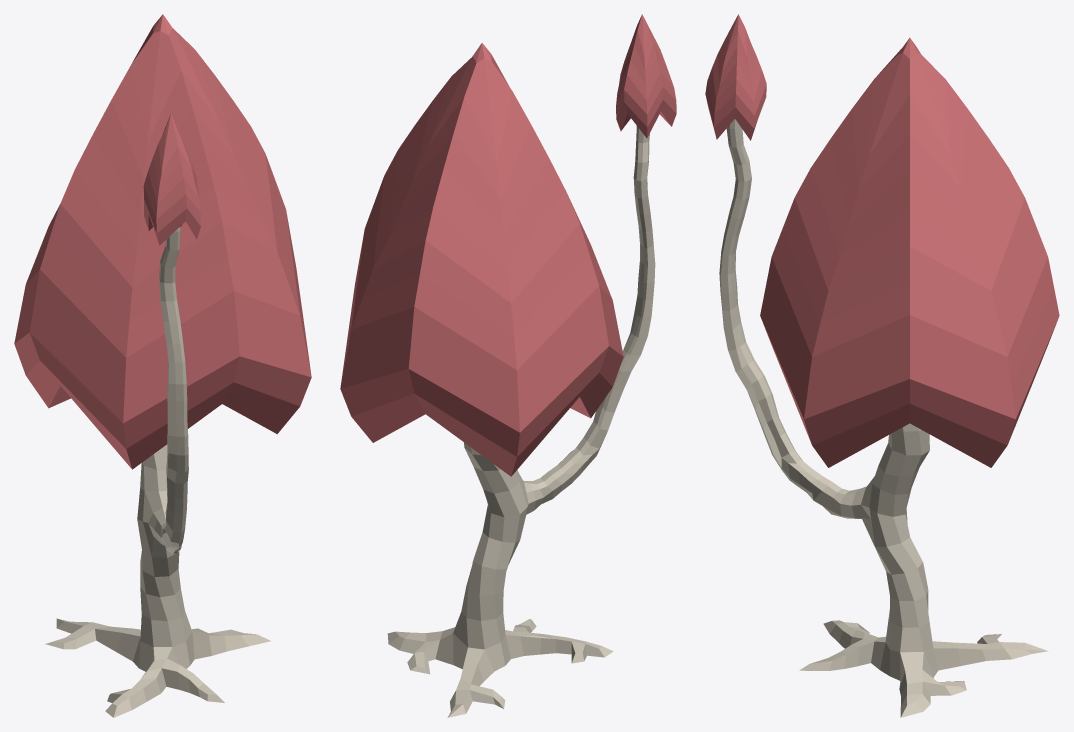
Rendered from Tree1b.fbx.
3 renders of one model, left to right at view 1: azimuth 30°, elevation 25°; view 2: azimuth 150°, elevation 25°; view 3: azimuth 270°, elevation 25°, orthographic. The views are drawn at different scales.
Parts seen in each view (by area): view 1: Circle; view 2: Circle; view 3: Circle.
Part boxes in pixels (x1,y1,x2,y2): Circle: [14, 14, 311, 717]; Circle: [340, 14, 676, 717]; Circle: [705, 14, 1059, 717].
Bounding box in the file's own units: 276 × 641 × 326.
